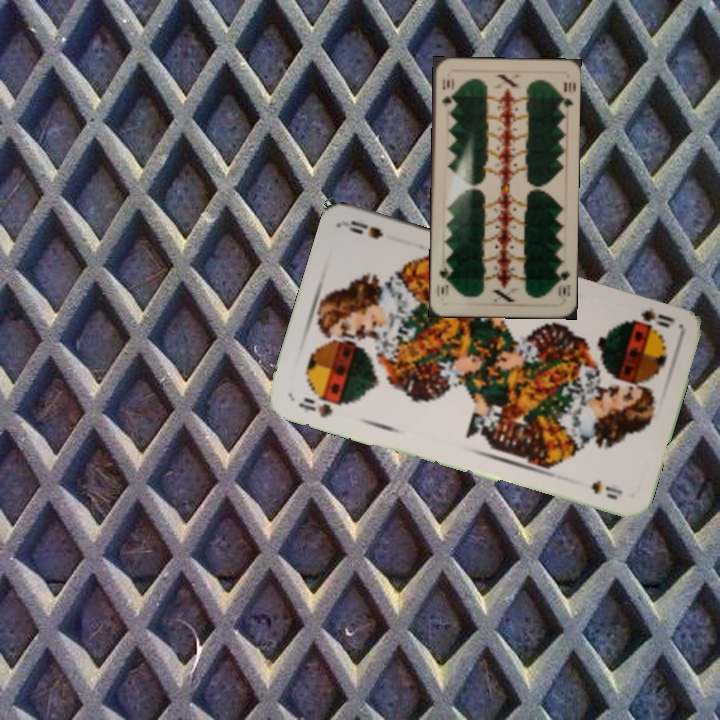G10: (553, 262, 573, 302), (438, 73, 455, 109)
SO: (294, 393, 344, 420), (628, 304, 677, 330)
